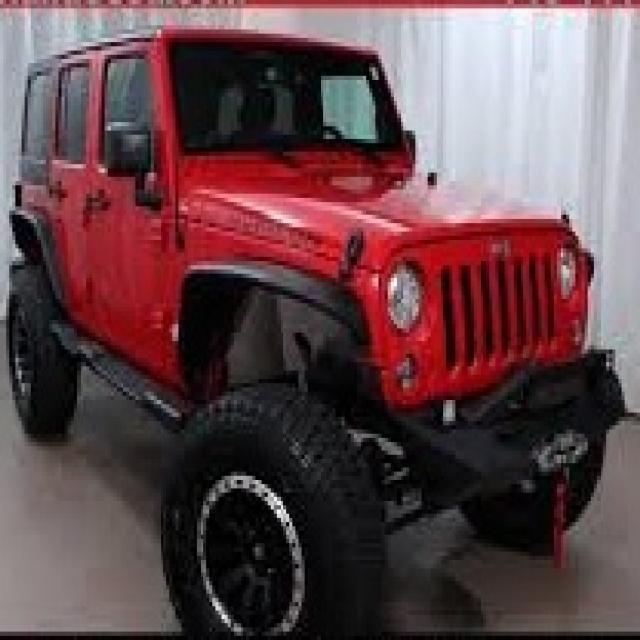red: (15, 29, 626, 569)
